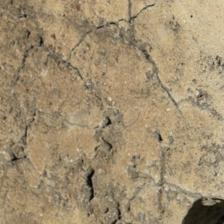Crack: (62, 40, 121, 94), (62, 80, 94, 141)
